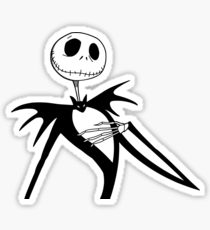Jack Skellington: (4, 22, 207, 207)
